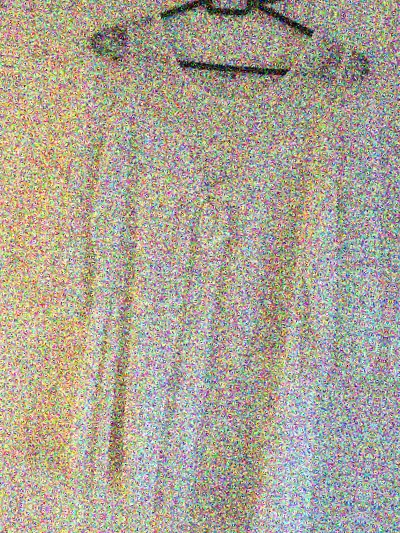Dress: (0, 0, 400, 533), (367, 50, 400, 533), (0, 503, 347, 533), (57, 0, 400, 3)
